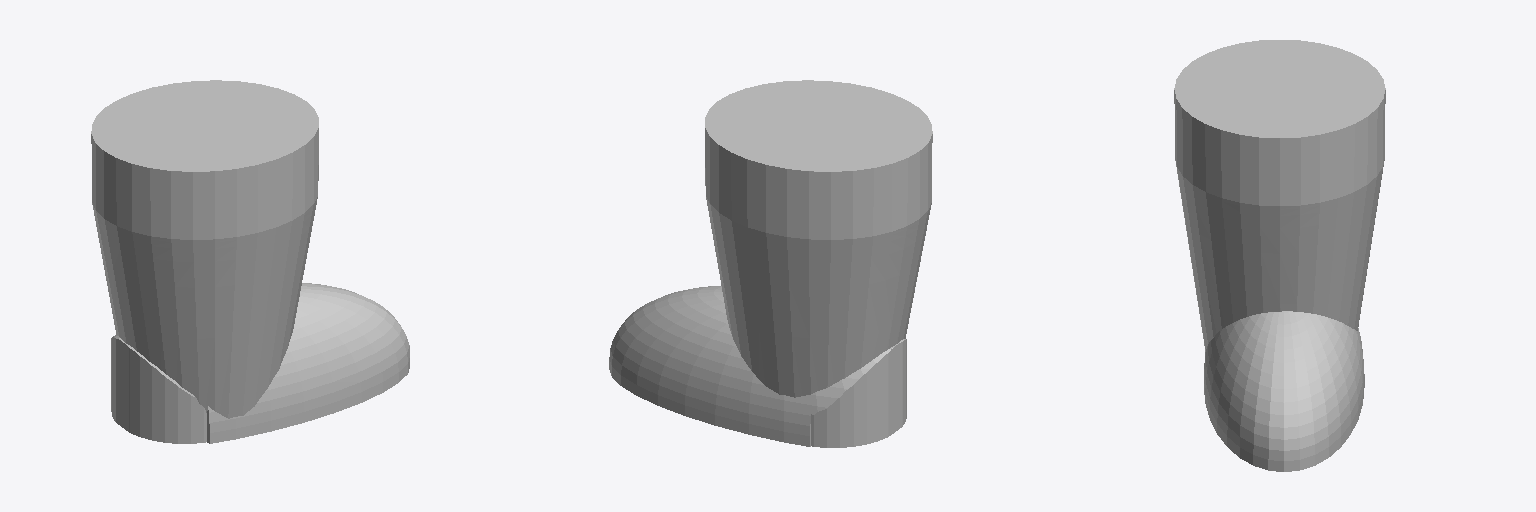
The model's file is pierna_der_abajo.obj.
3 renders of one model, left to right at view 1: azimuth 30°, elevation 25°; view 2: azimuth 150°, elevation 25°; view 3: azimuth 270°, elevation 25°, orthographic.
Visible parts, largest first — view 1: Cilindro.002_Cilindro.008, Cilindro.006_Cilindro.010; view 2: Cilindro.002_Cilindro.008, Cilindro.006_Cilindro.010; view 3: Cilindro.002_Cilindro.008, Cilindro.006_Cilindro.010.
Boxes of the visible parts, <box> form: Cilindro.002_Cilindro.008: <box>91,80,318,418</box>; Cilindro.006_Cilindro.010: <box>111,283,409,443</box>; Cilindro.002_Cilindro.008: <box>705,80,932,397</box>; Cilindro.006_Cilindro.010: <box>609,286,906,447</box>; Cilindro.002_Cilindro.008: <box>1174,40,1385,351</box>; Cilindro.006_Cilindro.010: <box>1204,311,1364,471</box>.
Size of the model in its own units: 0.2509 by 0.2242 by 0.1509.